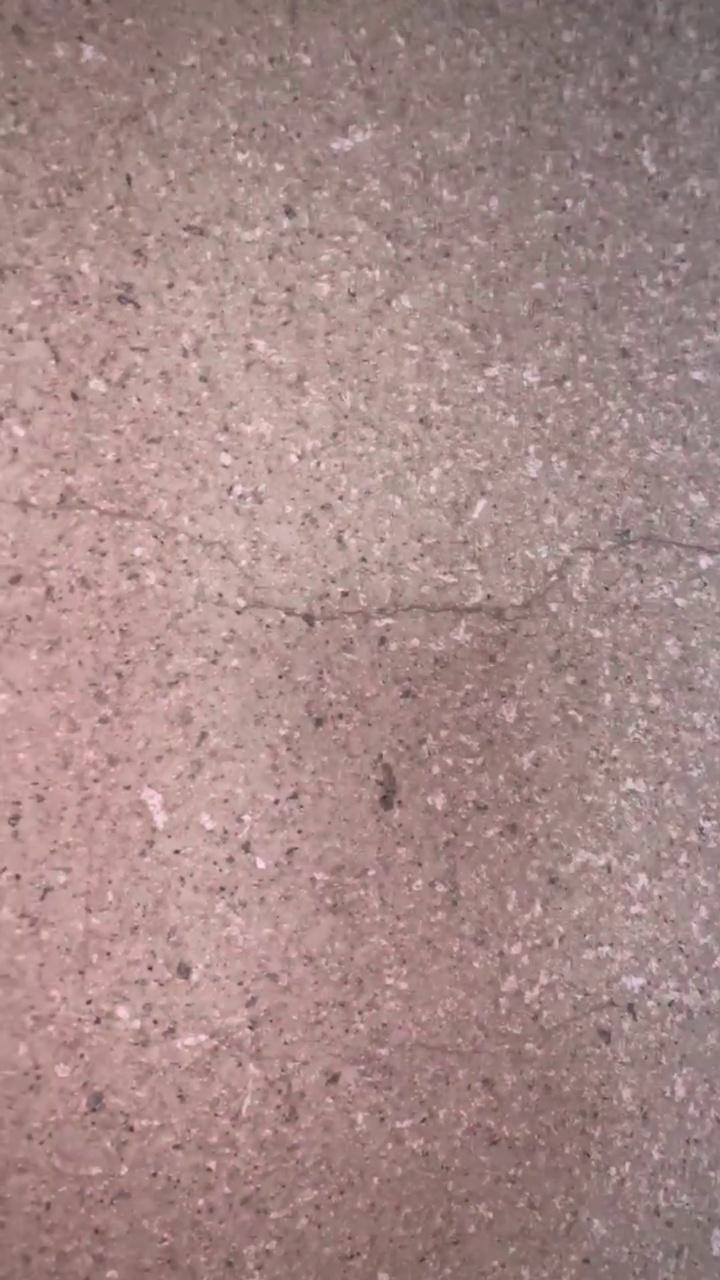Crack: (1, 496, 720, 624)
